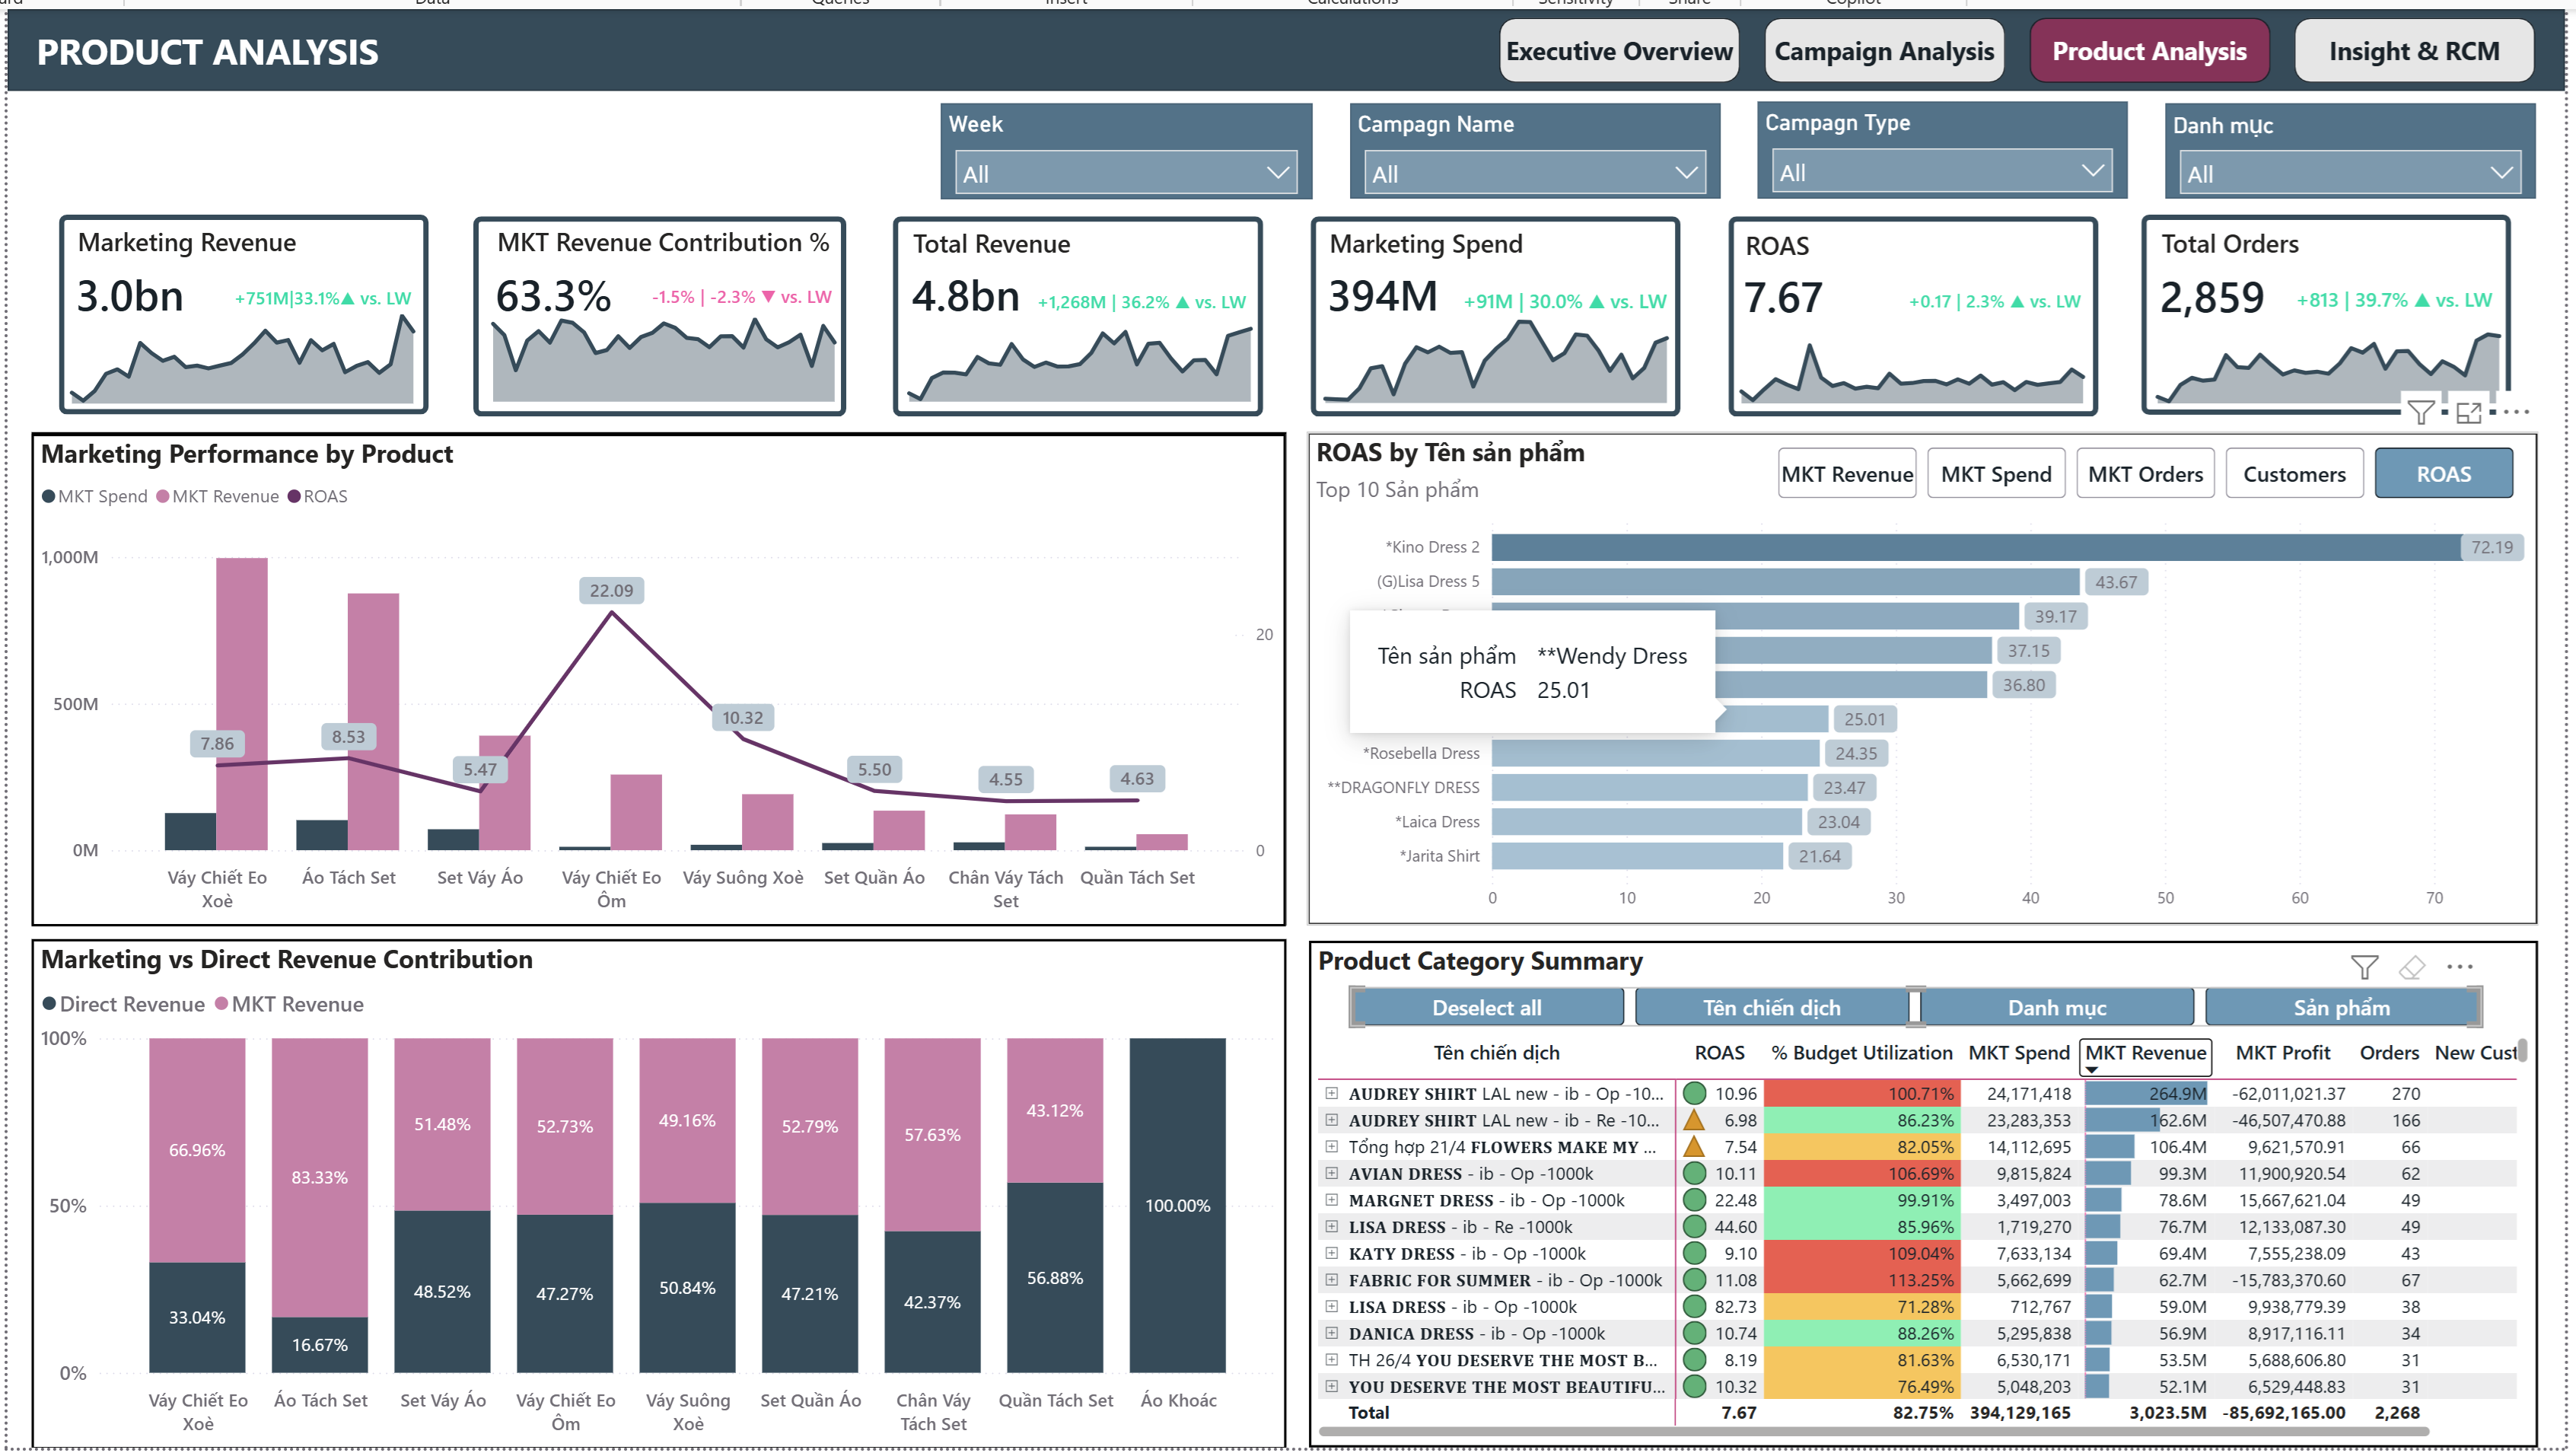

This screenshot's page, from the dashboard's own definition file:
{"tool":"powerbi","page":{"name":"Product Analysis","canvas":[1920,1080],"ordinal":2},"visuals":[{"type":"shape","box":[0,0,1920,61.4],"z":0},{"type":"cardVisual","fields":{"Data":["_Measure.MKT Revenue Contribution %"]},"box":[351.9,182.8,280.5,59.8],"z":0,"group":"g6"},{"type":"cardVisual","fields":{"Data":["_Measure.Total Revenue"]},"box":[665,183.7,280.5,59.8],"z":0,"group":"g5"},{"type":"cardVisual","fields":{"Data":["_Measure.MKT Revenue by Orders"]},"box":[36.4,183.8,280.5,59.8],"z":0,"group":"g4"},{"type":"cardVisual","fields":{"Data":["_Measure.Marketing Spend"]},"box":[976.7,183.9,280.5,59.8],"z":0,"group":"g3"},{"type":"cardVisual","fields":{"Data":["_Measure.ROAS"]},"box":[1289.4,184.4,280.5,59.8],"z":0,"group":"g2"},{"type":"cardVisual","fields":{"Data":["_Measure.Total Orders"]},"box":[1602,185.1,280.5,59.8],"z":0,"group":"g1"},{"type":"textbox","box":[17,7.7,623.1,54],"z":1000},{"type":"lineChart","fields":{"Y":["_Measure.MKT Revenue by Orders"],"Category":["Dim_Date.Date"]},"box":[35.4,221.3,280.5,76],"z":1000,"group":"g4"},{"type":"lineChart","fields":{"Y":["_Measure.MKT Revenue Contribution %"],"Category":["Dim_Date.Date"]},"box":[351.9,222.7,280.5,76],"z":1000,"group":"g6"},{"type":"lineChart","fields":{"Y":["_Measure.Total Revenue"],"Category":["Dim_Date.Date"]},"box":[665,223.6,280.5,76],"z":1000,"group":"g5"},{"type":"lineChart","fields":{"Y":["_Measure.Marketing Spend"],"Category":["Dim_Date.Date"]},"box":[976.7,223.8,280.5,76],"z":1000,"group":"g3"},{"type":"lineChart","fields":{"Y":["_Measure.ROAS"],"Category":["Dim_Date.Date"]},"box":[1289.4,224.5,280.5,76],"z":1000,"group":"g2"},{"type":"lineChart","fields":{"Y":["_Measure.Total Orders"],"Category":["Dim_Date.Date"]},"box":[1602,224.9,280.5,76],"z":1000,"group":"g1"},{"type":"group","id":"g1","title":"Group 1","box":[1602,154.7,280,150.3],"z":2000},{"type":"textbox","box":[351.9,156.7,280.5,52.4],"z":2000,"group":"g6"},{"type":"textbox","box":[665,157.5,280.5,52.4],"z":2000,"group":"g5"},{"type":"textbox","box":[36.4,157.6,280.5,52.4],"z":2000,"group":"g4"},{"type":"textbox","box":[976.7,157.7,280.5,52.4],"z":2000,"group":"g3"},{"type":"textbox","box":[1289.4,158.2,280.5,52.4],"z":2000,"group":"g2"},{"type":"textbox","box":[1602,158.9,280.5,52.4],"z":2000,"group":"g1"},{"type":"shape","box":[37.5,154.7,277.6,150],"z":2500,"group":"g4"},{"type":"shape","box":[1602,154.7,277.6,150.3],"z":2500,"group":"g1"},{"type":"shape","box":[349.1,155,280,150.3],"z":2500,"group":"g6"},{"type":"shape","box":[977.9,155,277.6,150.3],"z":2500,"group":"g3"},{"type":"shape","box":[1291.5,155,277.6,150.3],"z":2500,"group":"g2"},{"type":"group","id":"g2","title":"Group 1","box":[1289.4,155,280.4,150.5],"z":3000},{"type":"cardVisual","fields":{"Data":["_Measure.MKT Revenue Contribution % Label WoW"]},"box":[409.5,192.3,216.1,43.2],"z":3000,"group":"g6"},{"type":"cardVisual","fields":{"Data":["_Measure.MTK Revenue Label WoW"]},"box":[99.4,193.6,215.8,45],"z":3000,"group":"g4"},{"type":"cardVisual","fields":{"Data":["_Measure.Orders Label WoW"]},"box":[1662.6,194.3,215.6,44.4],"z":3000,"group":"g1"},{"type":"cardVisual","fields":{"Data":["_Measure.MTK ROAS Label WoW"]},"box":[1353.2,195,215.8,44.2],"z":3000,"group":"g2"},{"type":"cardVisual","fields":{"Data":["_Measure.MTK Spend Label WoW"]},"box":[1042,195.2,215.4,44.6],"z":3000,"group":"g3"},{"type":"group","id":"g3","title":"Group 1","box":[976.7,155,280.4,150.5],"z":4000},{"type":"group","id":"g4","title":"Group 1","box":[35.4,154.7,281.5,148.9],"z":5000},{"type":"lineClusteredColumnComboChart","fields":{"Y":["_Measure.MKT Budget","_Measure.MKT Spend"],"Category":["Dim_Date.WeekOfMonth"],"Y2":["_Measure.% Budget Utilization"]},"box":[18,318,942,370],"z":6000},{"type":"pivotTable","title":"Product Category Summary","fields":{"Rows":["dim_mkt_camp_cost.Tên chiến dịch","dim_danh sach san pham.Danh mục","dim_danh sach san pham.Tên sản phẩm"],"Values":["_Measure.ROAS","_Measure.% Budget Utilization","_Measure.MKT Spend","_Measure.MKT Revenue by Camp","_Measure.MKT Profit","_Measure.MKT Orders","_Measure.Total New Customers"]},"box":[976.7,699.4,922.7,380.2],"z":7000},{"type":"shape","box":[664.4,155,278,150.3],"z":7001,"group":"g5"},{"type":"cardVisual","fields":{"Data":["_Measure.Total Revenue Label WoW"]},"box":[697.7,195.8,244.6,43.8],"z":7501,"group":"g5"},{"type":"lineClusteredColumnComboChart","title":"Marketing Performance by Product","fields":{"Category":["dim_danh sach san pham.Danh mục","dim_danh sach san pham.Tên sản phẩm"],"Y":["_Measure.MKT Spend","_Measure.MKT Revenue by Camp"],"Y2":["_Measure.ROAS"]},"box":[17.7,318.3,941.8,369.9],"z":8000},{"type":"clusteredBarChart","fields":{"Y":["_Measure.ROAS"],"Category":["dim_danh sach san pham.Tên sản phẩm"]},"box":[976,318,924,370],"z":9000},{"type":"advancedSlicerVisual","fields":{"Values":["Parameter_product.Parameter"]},"box":[1329,329.5,555.9,38.5],"z":10000},{"type":"hundredPercentStackedColumnChart","title":"Marketing vs Direct Revenue Contribution","fields":{"Category":["dim_danh sach san pham.Danh mục"],"Y":["_Measure.Direct Revenue","_Measure.MKT Revenue by Orders"]},"box":[18,697.7,942.4,383],"z":11000},{"type":"group","id":"g5","title":"Group 1","box":[664.4,155,280,150],"z":12000},{"type":"group","id":"g6","title":"Group 1","box":[349.1,155,283,148.9],"z":13000},{"type":"advancedSlicerVisual","fields":{"Values":["Parameter 3.Parameter"]},"box":[1008.1,734.3,849.4,29.7],"z":14000},{"type":"slicer","title":"Campagn Name","fields":{"Values":["dim_mkt_camp_cost.Tên chiến dịch"]},"box":[1007.7,70.3,278.3,71.7],"z":15000},{"type":"slicer","title":"Danh mục","fields":{"Values":["dim_danh sach san pham.Danh mục"]},"box":[1620.6,70.3,278.3,71.7],"z":16000},{"type":"slicer","title":"Week","fields":{"Values":["Dim_Date.WeekOfMonth"]},"box":[700.2,70.1,278.9,72.1],"z":17000},{"type":"slicer","title":"Campagn Type","fields":{"Values":["dim_mkt_camp_cost._Campaign Type"]},"box":[1314.5,69.8,277.6,72.8],"z":18000},{"type":"pageNavigator","box":[1120,6.3,781,49.1],"z":19000}]}

Visuals, with their boxes on the page's 1920x1080 design canvas (x1, y1, x2, y2). These are canvas units, not pixel positions in the 2576x1453 screenshot, which may show the page scaled, cropped or inside an application window:
shape: locate(0, 0, 1920, 61)
cardVisual - _Measure.MKT Revenue Contribution %: locate(352, 183, 632, 243)
cardVisual - _Measure.Total Revenue: locate(665, 184, 946, 244)
cardVisual - _Measure.MKT Revenue by Orders: locate(36, 184, 317, 244)
cardVisual - _Measure.Marketing Spend: locate(977, 184, 1257, 244)
cardVisual - _Measure.ROAS: locate(1289, 184, 1570, 244)
cardVisual - _Measure.Total Orders: locate(1602, 185, 1882, 245)
textbox: locate(17, 8, 640, 62)
lineChart - _Measure.MKT Revenue by Orders x Dim_Date.Date: locate(35, 221, 316, 297)
lineChart - _Measure.MKT Revenue Contribution % x Dim_Date.Date: locate(352, 223, 632, 299)
lineChart - _Measure.Total Revenue x Dim_Date.Date: locate(665, 224, 946, 300)
lineChart - _Measure.Marketing Spend x Dim_Date.Date: locate(977, 224, 1257, 300)
lineChart - _Measure.ROAS x Dim_Date.Date: locate(1289, 224, 1570, 300)
lineChart - _Measure.Total Orders x Dim_Date.Date: locate(1602, 225, 1882, 301)
"Group 1" group: locate(1602, 155, 1882, 305)
textbox: locate(352, 157, 632, 209)
textbox: locate(665, 158, 946, 210)
textbox: locate(36, 158, 317, 210)
textbox: locate(977, 158, 1257, 210)
textbox: locate(1289, 158, 1570, 211)
textbox: locate(1602, 159, 1882, 211)
shape: locate(38, 155, 315, 305)
shape: locate(1602, 155, 1880, 305)
shape: locate(349, 155, 629, 305)
shape: locate(978, 155, 1256, 305)
shape: locate(1292, 155, 1569, 305)
"Group 1" group: locate(1289, 155, 1570, 306)
cardVisual - _Measure.MKT Revenue Contribution % Label WoW: locate(410, 192, 626, 236)
cardVisual - _Measure.MTK Revenue Label WoW: locate(99, 194, 315, 239)
cardVisual - _Measure.Orders Label WoW: locate(1663, 194, 1878, 239)
cardVisual - _Measure.MTK ROAS Label WoW: locate(1353, 195, 1569, 239)
cardVisual - _Measure.MTK Spend Label WoW: locate(1042, 195, 1257, 240)
"Group 1" group: locate(977, 155, 1257, 306)
"Group 1" group: locate(35, 155, 317, 304)
lineClusteredColumnComboChart - _Measure.MKT Budget x _Measure.MKT Spend: locate(18, 318, 960, 688)
"Product Category Summary" pivotTable: locate(977, 699, 1899, 1080)
shape: locate(664, 155, 942, 305)
cardVisual - _Measure.Total Revenue Label WoW: locate(698, 196, 942, 240)
"Marketing Performance by Product" lineClusteredColumnComboChart: locate(18, 318, 960, 688)
clusteredBarChart - _Measure.ROAS x dim_danh sach san pham.Tên sản phẩm: locate(976, 318, 1900, 688)
advancedSlicerVisual - Parameter_product.Parameter: locate(1329, 330, 1885, 368)
"Marketing vs Direct Revenue Contribution" hundredPercentStackedColumnChart: locate(18, 698, 960, 1081)
"Group 1" group: locate(664, 155, 944, 305)
"Group 1" group: locate(349, 155, 632, 304)
advancedSlicerVisual - Parameter 3.Parameter: locate(1008, 734, 1858, 764)
"Campagn Name" slicer: locate(1008, 70, 1286, 142)
"Danh mục" slicer: locate(1621, 70, 1899, 142)
"Week" slicer: locate(700, 70, 979, 142)
"Campagn Type" slicer: locate(1314, 70, 1592, 143)
pageNavigator: locate(1120, 6, 1901, 55)
